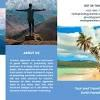paper: (5, 0, 100, 100)
